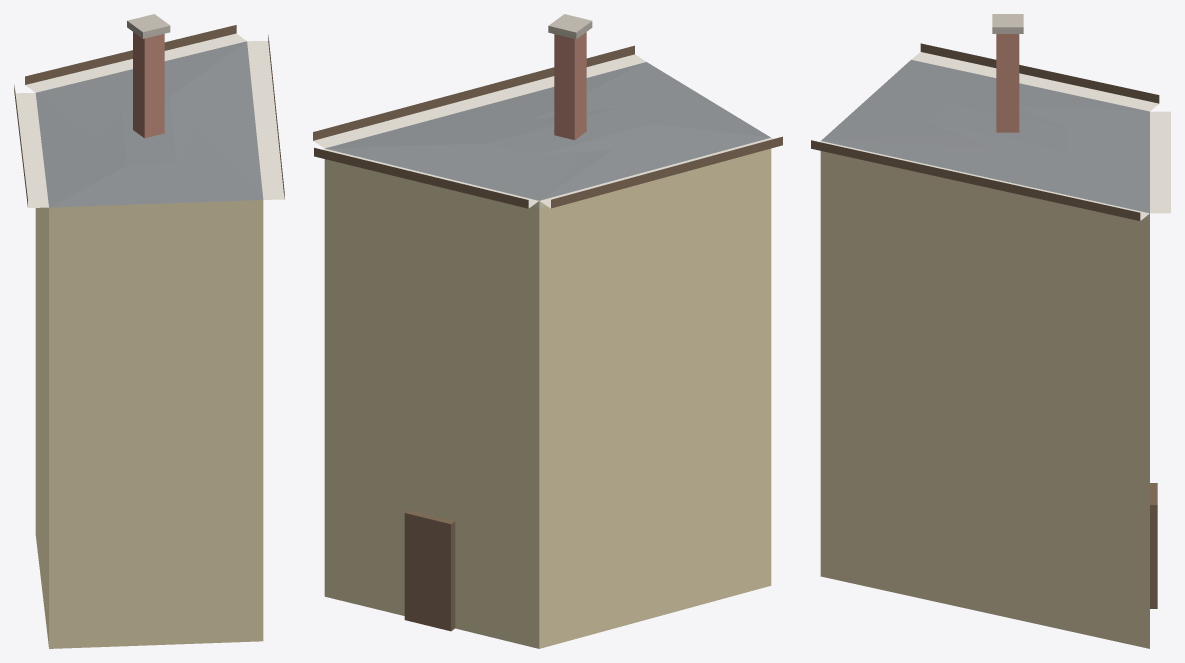
The picture shows the model from 3 angles, left to right: view 1: azimuth 30°, elevation 25°; view 2: azimuth 150°, elevation 25°; view 3: azimuth 270°, elevation 25°; orthographic projection. The views are drawn at different scales.
Visible parts, largest first — view 1: N-40; view 2: N-40; view 3: N-40.
Part boxes in pixels (x1=…): N-40: x1=14, y1=14, x2=284, y2=648; N-40: x1=313, y1=14, x2=782, y2=648; N-40: x1=811, y1=14, x2=1170, y2=648.
Size of the model in its own units: 7.67 by 11.54 by 6.88.
